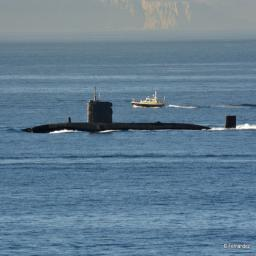submarine: (15, 101, 240, 139)
